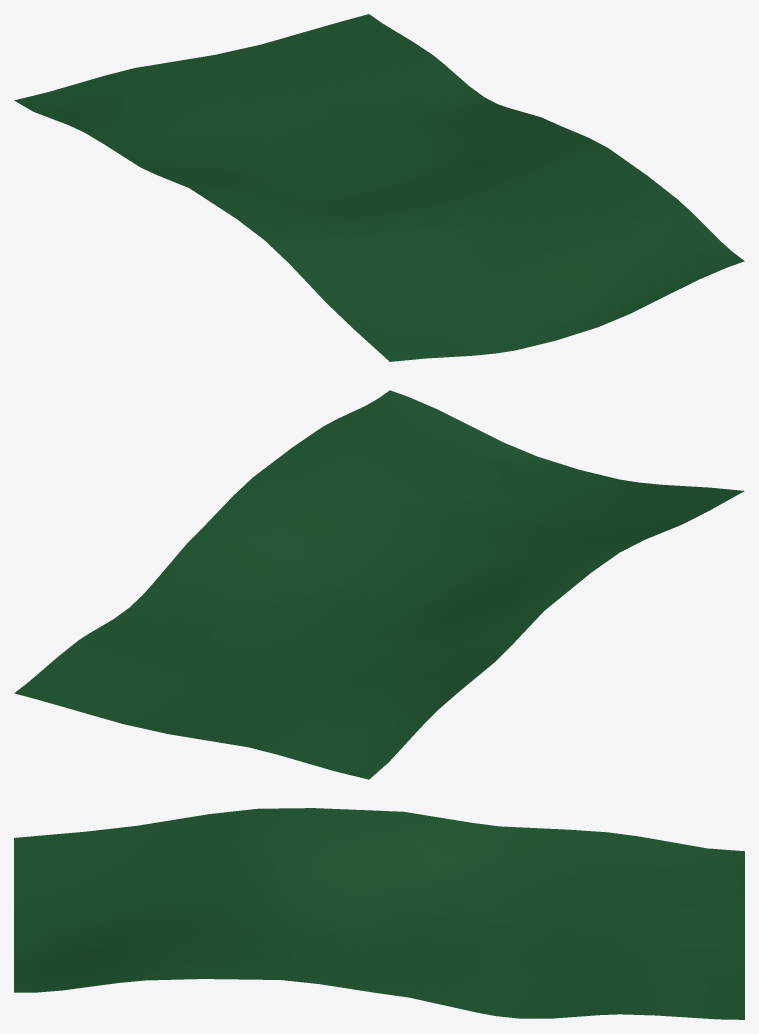
The model's file is payo_land_x4_ym4_lod1.glb.
3 views of the same model, one above another, from view 1: azimuth 30°, elevation 25°; view 2: azimuth 150°, elevation 25°; view 3: azimuth 270°, elevation 25° (orthographic). The views are drawn at different scales.
Visible parts, largest first — view 1: payo_land_x4_ym4; view 2: payo_land_x4_ym4; view 3: payo_land_x4_ym4.
Part boxes in pixels (x1,y1,x2,y2): payo_land_x4_ym4: [14, 14, 744, 361]; payo_land_x4_ym4: [14, 390, 744, 779]; payo_land_x4_ym4: [14, 808, 744, 1019].
Bounding box in the file's own units: 126 × 16.95 × 231.
